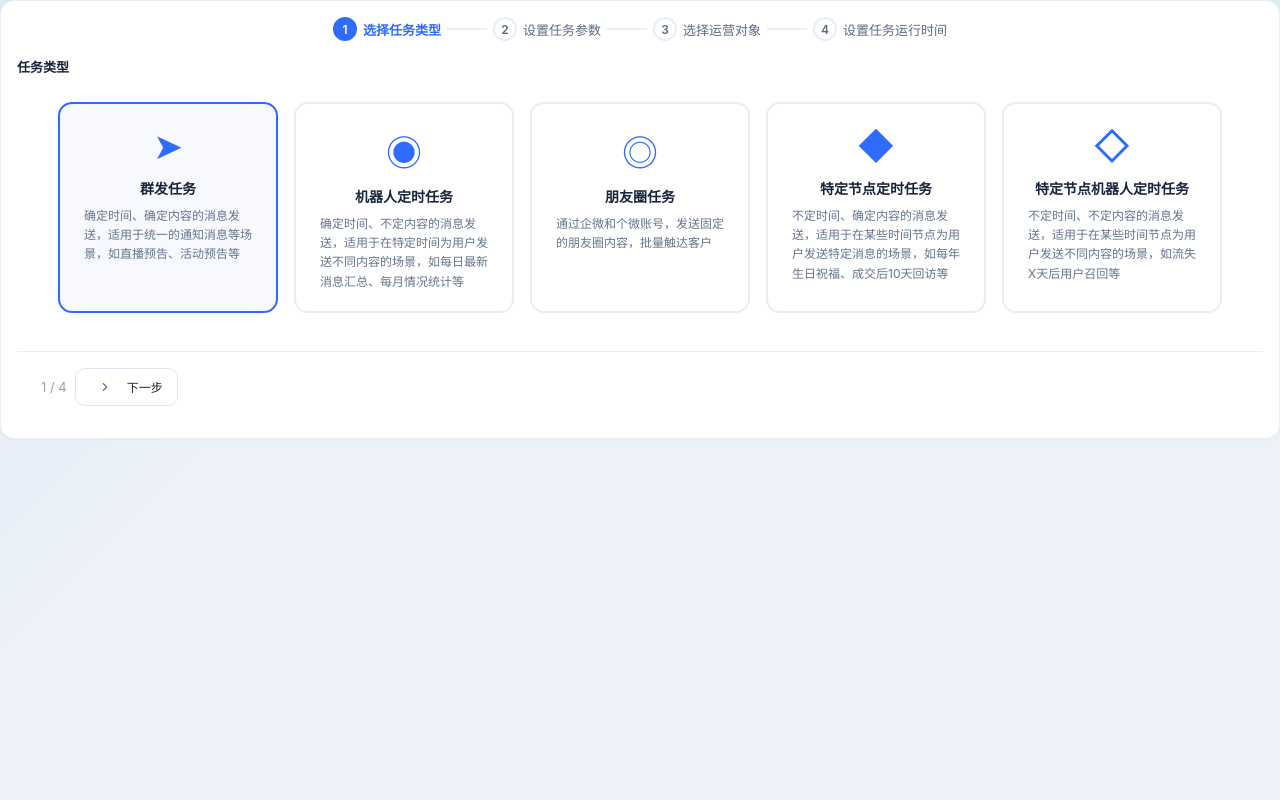
Test: OperationTaskCreatePage — GroupTab 修复验证 › Step 导航与基础渲染 › 可以逐步导航到 Step 3
# Step 1 → Step 2
Click the button "下一步": {"x": 126, "y": 387} [75,368,178,406]
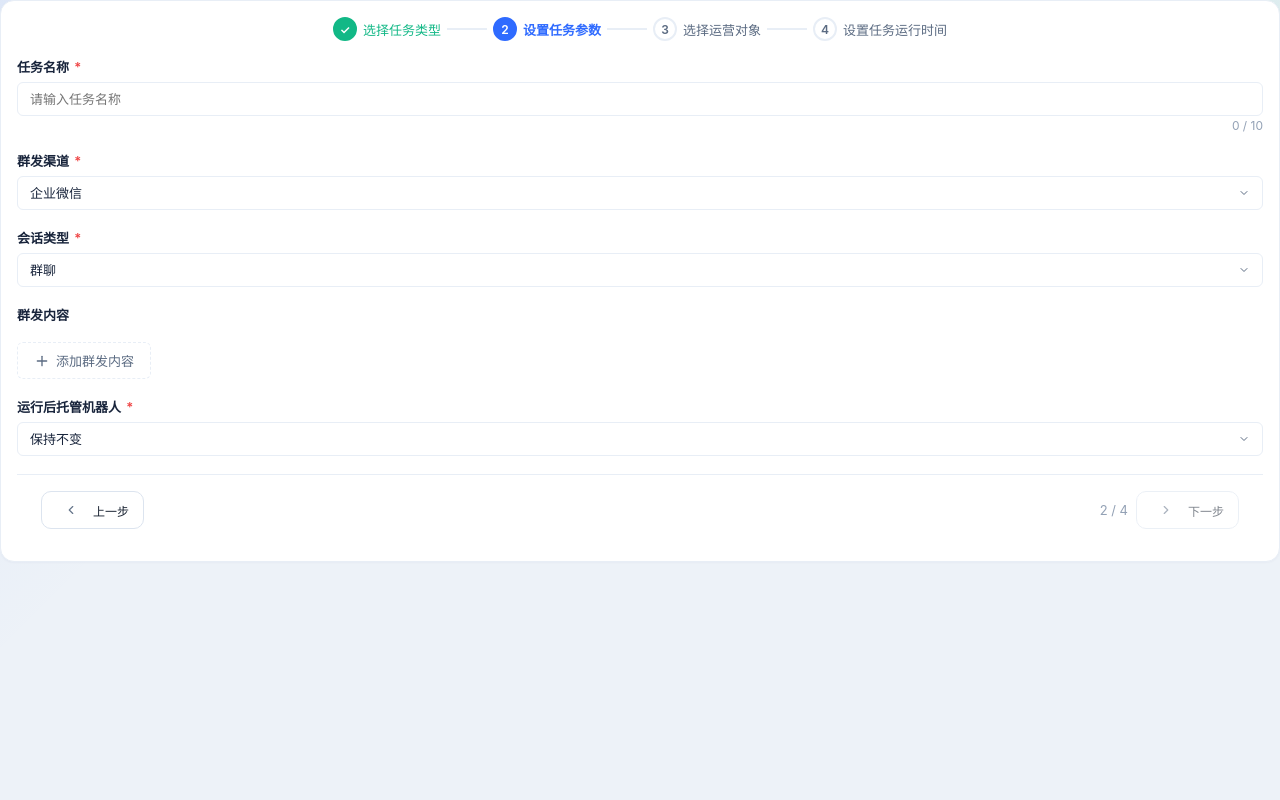
Expected: the field with placeholder "请输入任务名称" is shown
In the field with placeholder "请输入任务名称": {"x": 640, "y": 99} [17,82,1263,116], type "测试运营任务"
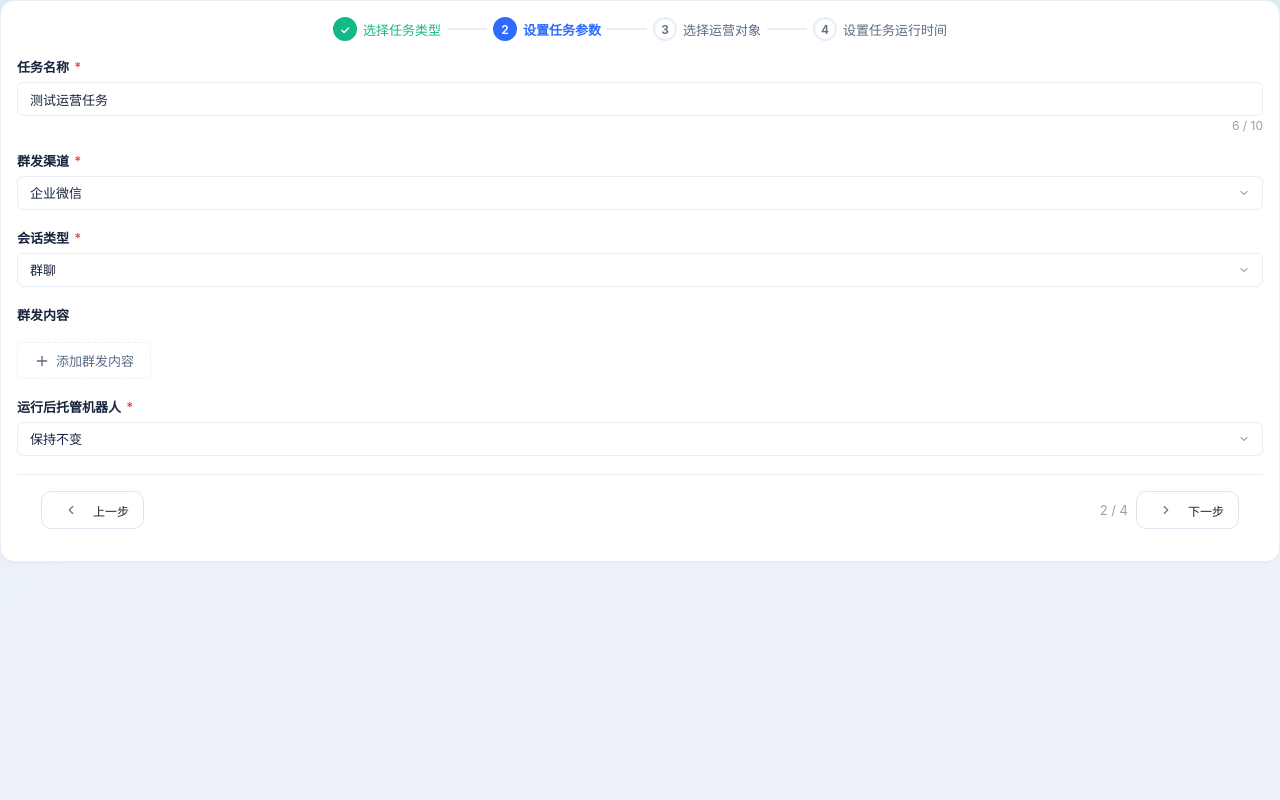
# Step 2 → Step 3
Click the button "下一步": {"x": 1188, "y": 510} [1136,491,1239,529]
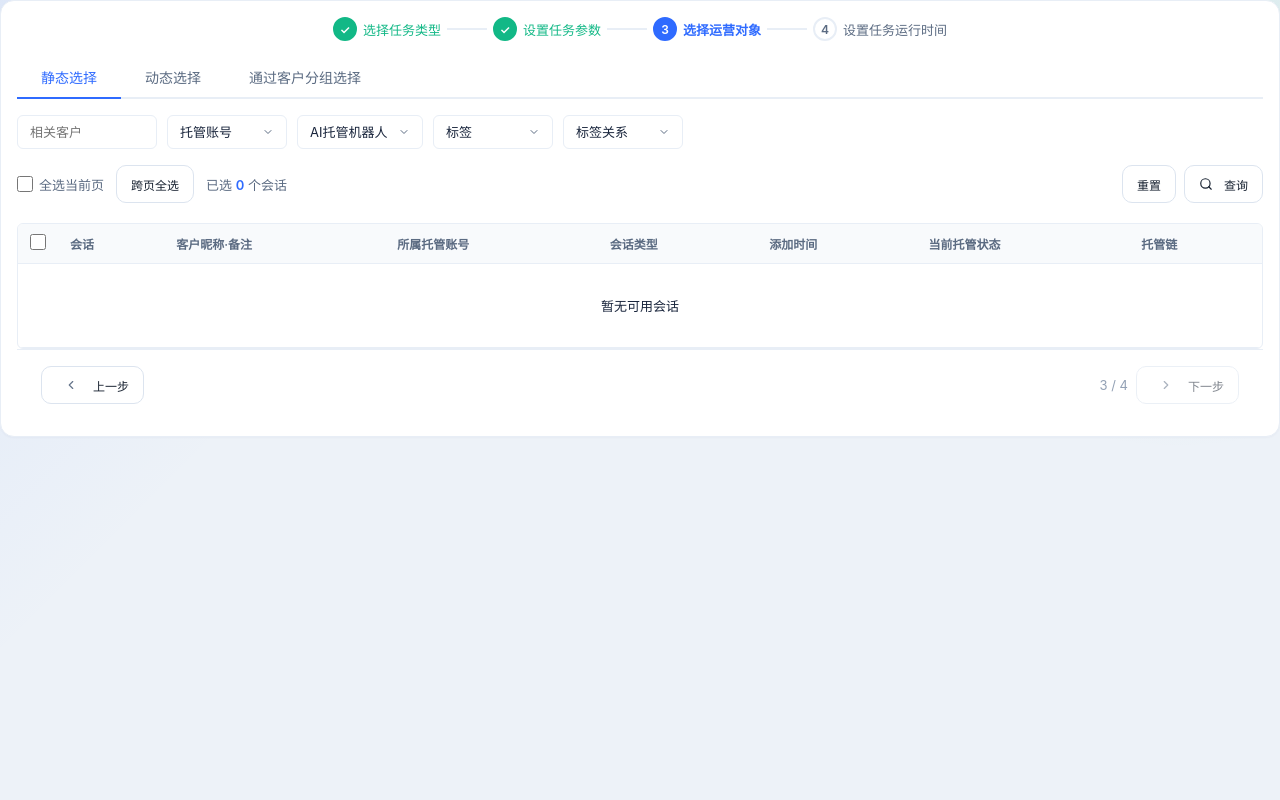
Expected: the button "静态选择" is shown, [17,57,121,99]
